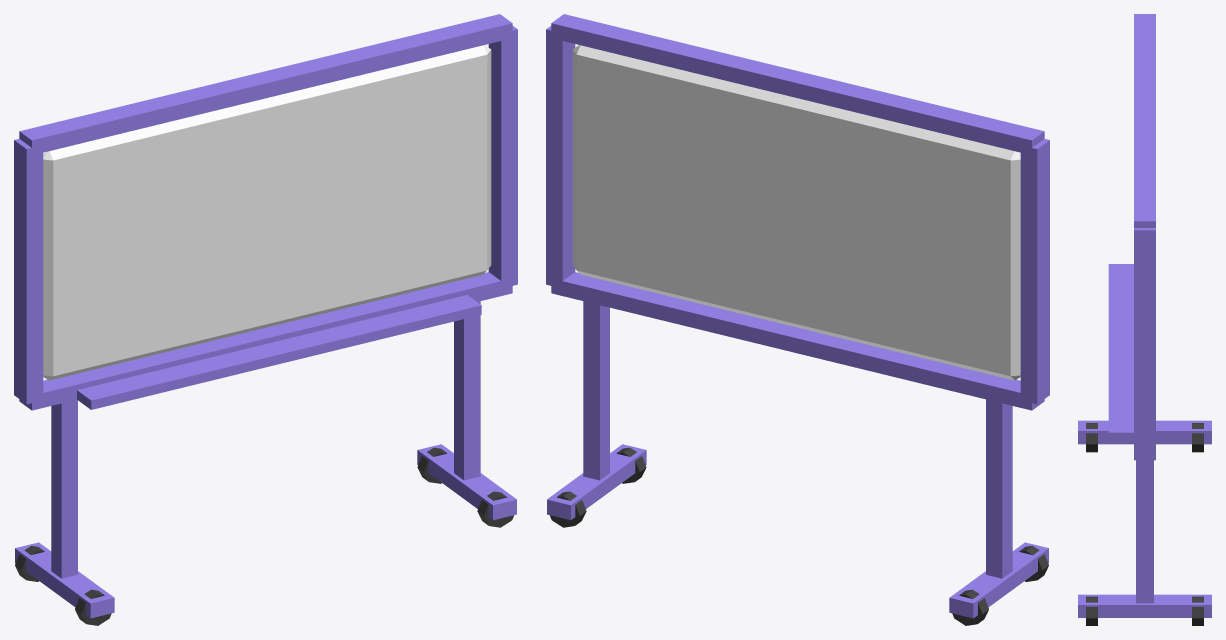
The picture shows the model from 3 angles, left to right: view 1: azimuth 30°, elevation 25°; view 2: azimuth 150°, elevation 25°; view 3: azimuth 270°, elevation 25°; orthographic projection. The views are drawn at different scales.
Visible parts, largest first — view 1: Writing surface, Frame rail.001, Marker ledge, Frame rail, Frame upright, Frame upright.001, Stand, Stand.001, Caster beam.001, Caster beam; view 2: Writing surface, Frame rail.001, Frame rail, Frame upright, Frame upright.001, Stand.001, Stand, Caster beam.001, Caster beam; view 3: Frame upright.001, Frame rail.001, Marker ledge, Caster beam.001, Stand.001, Caster beam, Wheel, Wheel.001, Wheel.002, Wheel.003.
Boxes of the visible parts, x1,y1,x2,y2 form: Writing surface: (43, 45, 491, 380); Frame rail.001: (19, 14, 512, 155); Marker ledge: (77, 295, 481, 409); Frame rail: (19, 272, 512, 410); Frame upright: (14, 139, 43, 404); Frame upright.001: (488, 26, 517, 288); Stand: (51, 399, 77, 578); Stand.001: (454, 301, 480, 480); Caster beam.001: (417, 444, 516, 520); Caster beam: (15, 542, 114, 618); Writing surface: (572, 45, 1020, 380); Frame rail.001: (551, 14, 1044, 152); Frame rail: (551, 272, 1044, 410); Frame upright: (1020, 139, 1049, 404); Frame upright.001: (546, 26, 575, 285); Stand.001: (583, 301, 609, 480); Stand: (986, 399, 1012, 578); Caster beam.001: (547, 444, 646, 520); Caster beam: (949, 542, 1048, 618); Frame upright.001: (1134, 228, 1155, 455); Frame rail.001: (1134, 14, 1155, 227); Marker ledge: (1108, 264, 1133, 440); Caster beam.001: (1078, 594, 1211, 617); Stand.001: (1136, 460, 1153, 603); Caster beam: (1078, 420, 1211, 444); Wheel: (1086, 423, 1097, 452); Wheel.001: (1192, 423, 1203, 452); Wheel.002: (1086, 596, 1097, 625); Wheel.003: (1192, 596, 1203, 625).
Bounding box in the file's own units: 180 × 166 × 48.
